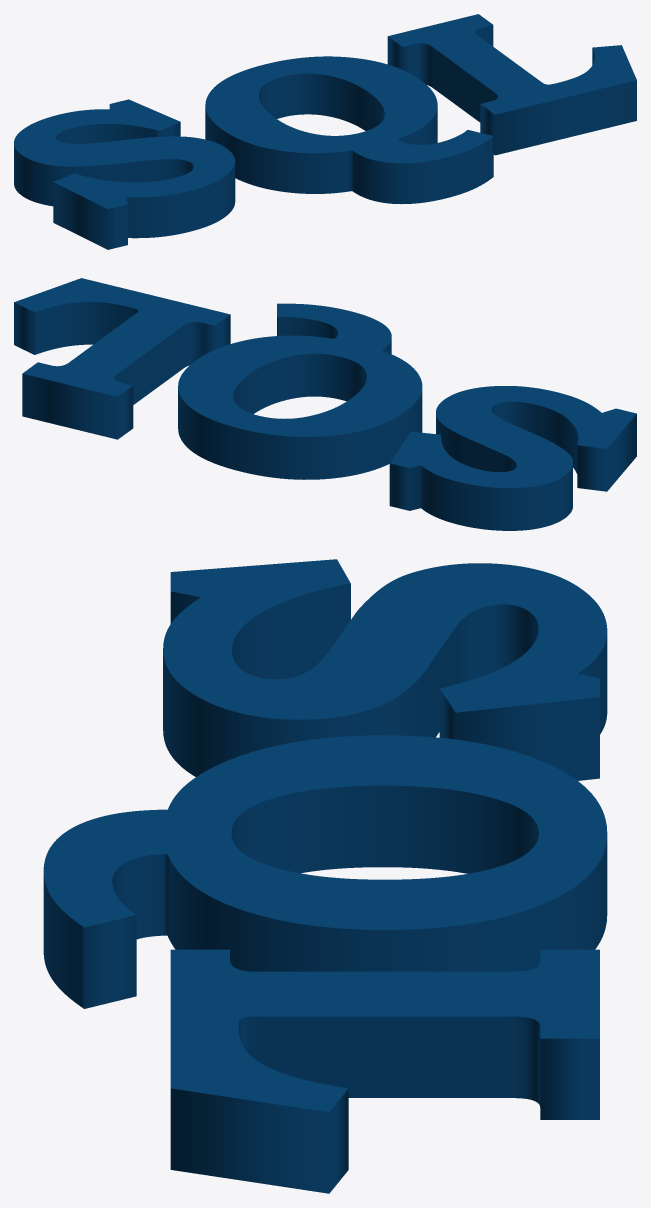
The model's file is sql.fbx.
The picture shows the model from 3 angles, top to bottom: view 1: azimuth 30°, elevation 25°; view 2: azimuth 150°, elevation 25°; view 3: azimuth 270°, elevation 25°; orthographic projection. The views are drawn at different scales.
Visible parts, largest first — view 1: Text; view 2: Text; view 3: Text.
Part boxes in pixels (x1,y1,x2,y2): Text: (14,14,636,249); Text: (14,278,636,530); Text: (43,559,607,1193).
Size of the model in its own units: 146 by 10 by 62.66.
